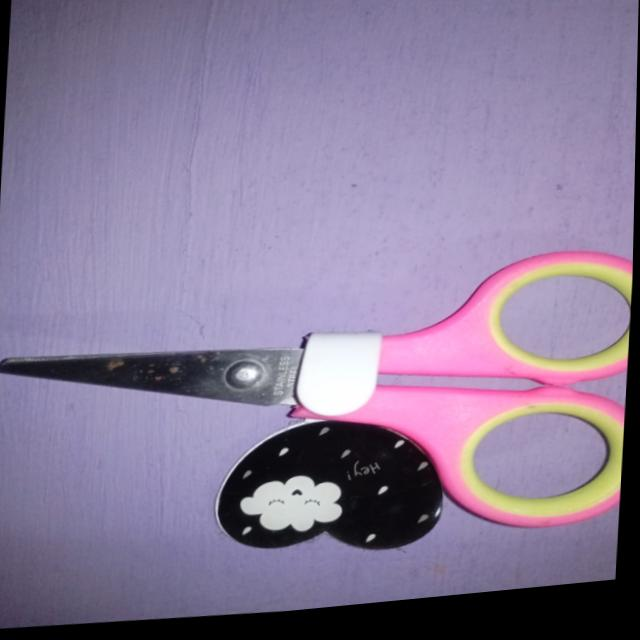scissor: (0, 233, 635, 604)
